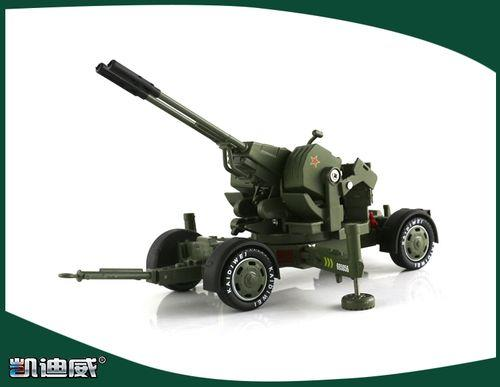MIL_SPG: (60, 61, 438, 311)
